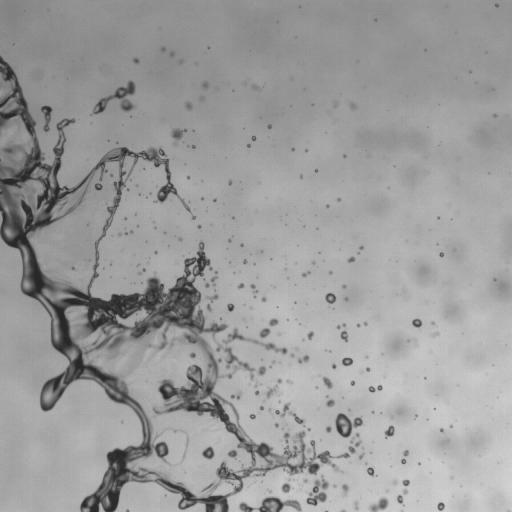droplet: (335, 413, 362, 437), (306, 476, 328, 505), (368, 497, 388, 511), (171, 128, 186, 144), (206, 294, 218, 310), (202, 446, 214, 459), (281, 479, 292, 493), (384, 425, 394, 438), (227, 449, 238, 460), (322, 376, 332, 388), (325, 293, 335, 303), (259, 328, 270, 337), (342, 357, 352, 366), (298, 355, 309, 363), (412, 318, 421, 327), (366, 467, 375, 476), (340, 330, 347, 341), (269, 318, 278, 326), (342, 484, 348, 496), (326, 399, 334, 407), (437, 502, 444, 511), (397, 494, 403, 504), (185, 102, 192, 110), (227, 303, 234, 311), (307, 331, 313, 339), (348, 256, 355, 262), (431, 332, 439, 336), (133, 58, 139, 63), (202, 82, 208, 87), (350, 103, 356, 108), (238, 283, 244, 288), (249, 414, 255, 419), (326, 426, 331, 432), (403, 450, 408, 456), (358, 453, 363, 459), (354, 502, 358, 509), (252, 84, 257, 89), (261, 297, 266, 301), (401, 458, 405, 463), (186, 438, 189, 444), (161, 47, 165, 51), (267, 124, 271, 128), (439, 252, 443, 256), (205, 283, 209, 287), (290, 353, 294, 357), (332, 364, 336, 368), (366, 367, 370, 371), (287, 379, 291, 383), (350, 381, 354, 385), (255, 391, 259, 395), (259, 406, 263, 410), (303, 478, 307, 482), (252, 136, 255, 140), (359, 246, 363, 249), (71, 266, 74, 270), (393, 480, 396, 484), (334, 103, 337, 106), (493, 114, 496, 117), (110, 174, 113, 177), (228, 181, 231, 184), (243, 260, 246, 263), (357, 323, 360, 326), (364, 322, 367, 325), (275, 423, 278, 426), (440, 429, 443, 432), (343, 284, 345, 288), (170, 53, 173, 55), (247, 144, 249, 147), (291, 148, 294, 150), (213, 199, 216, 201), (338, 198, 340, 201), (198, 225, 200, 228), (228, 239, 231, 241), (240, 244, 243, 246), (154, 251, 157, 253), (329, 271, 332, 273), (268, 489, 270, 492), (495, 4, 497, 6), (343, 155, 345, 157), (187, 176, 189, 178), (192, 216, 194, 218), (86, 224, 88, 226), (118, 233, 120, 235), (179, 238, 181, 240), (313, 261, 315, 263), (345, 298, 347, 300), (432, 322, 434, 324), (414, 339, 416, 341), (173, 354, 175, 356), (255, 384, 257, 386), (415, 415, 417, 417), (450, 425, 452, 427), (218, 438, 220, 440), (509, 510, 511, 511)
ligament: (0, 56, 357, 511), (92, 81, 135, 114), (238, 496, 301, 511), (268, 402, 305, 426), (265, 378, 281, 398), (41, 106, 51, 131), (402, 479, 409, 494), (368, 385, 382, 392), (211, 271, 217, 285), (231, 392, 241, 399), (250, 284, 256, 294), (302, 271, 310, 277), (337, 323, 345, 328), (172, 429, 179, 432), (182, 452, 185, 459), (340, 509, 346, 511), (125, 510, 129, 511)
